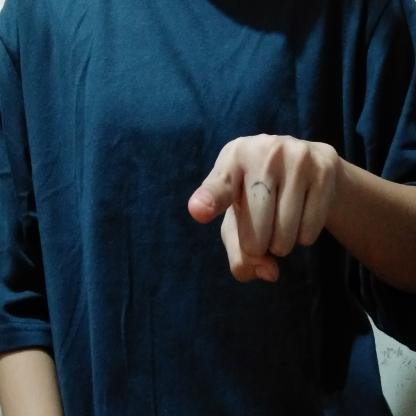you: (179, 125, 342, 296)
